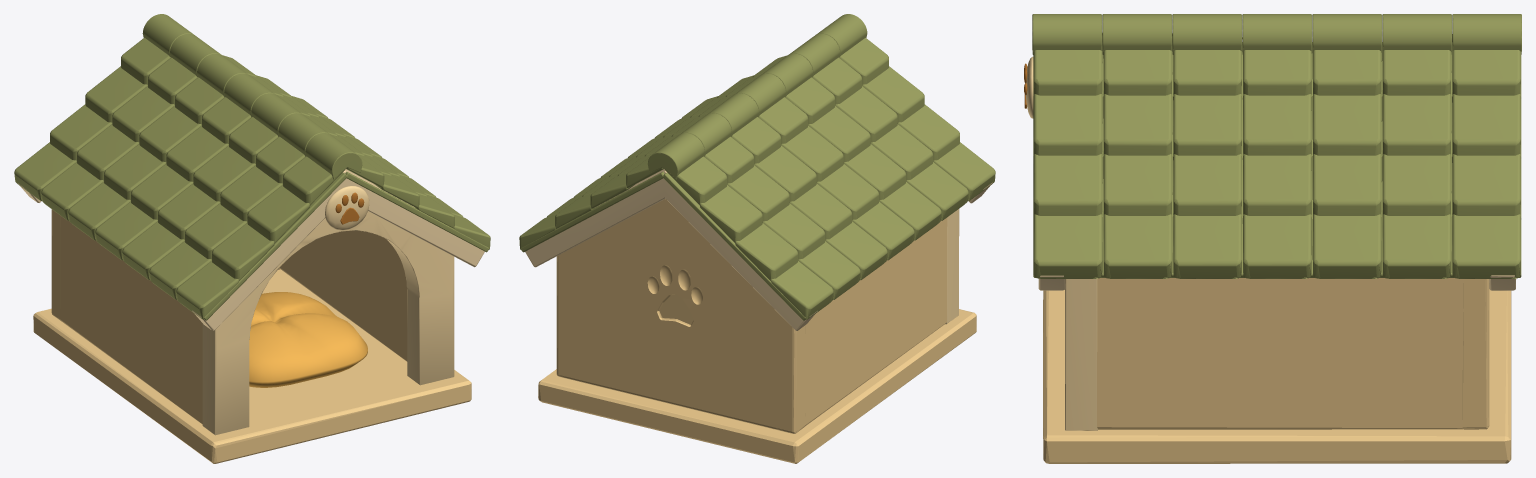
Rendered from olive_tile_cat_shelter.glb.
The picture shows the model from 3 angles, left to right: view 1: azimuth 30°, elevation 25°; view 2: azimuth 150°, elevation 25°; view 3: azimuth 270°, elevation 25°; orthographic projection. The views are drawn at different scales.
Visible parts, largest first — view 1: cream_foundation, solid_side_wall, seamless_arched_facade, solid_side_wall.001, single_four_tuft_cushion, continuous_gable_trim, roof_tile_-1_1_0, roof_tile_-1_2_0, roof_tile_-1_3_0, roof_tile_-1_3_4, roof_tile_-1_3_3, roof_tile_-1_3_5 (+36 smaller); view 2: rear_gable_wall, solid_side_wall, cream_foundation, continuous_gable_trim.001, roof_tile_-1_1_6, roof_tile_-1_2_6, roof_tile_-1_3_6, roof_tile_-1_3_3, roof_tile_-1_3_4, roof_tile_-1_3_2, roof_tile_-1_3_5, roof_tile_-1_3_0 (+33 smaller); view 3: solid_side_wall.001, cream_foundation, seamless_arched_facade, roof_tile_1_3_5, roof_tile_1_3_1, roof_tile_1_3_4, roof_tile_1_3_2, roof_tile_1_3_3, roof_tile_1_3_0, roof_tile_1_3_6, roof_tile_1_2_4, roof_tile_1_1_4 (+28 smaller).
Part boxes in pixels (x1=…): cream_foundation: x1=33, y1=269, x2=471, y2=463; solid_side_wall: x1=51, y1=209, x2=202, y2=424; seamless_arched_facade: x1=202, y1=211, x2=454, y2=435; solid_side_wall.001: x1=279, y1=230, x2=407, y2=361; single_four_tuft_cushion: x1=249, y1=292, x2=367, y2=387; continuous_gable_trim: x1=192, y1=169, x2=484, y2=330; roof_tile_-1_1_0: x1=247, y1=185, x2=310, y2=243; roof_tile_-1_2_0: x1=212, y1=223, x2=274, y2=280; roof_tile_-1_3_0: x1=176, y1=261, x2=238, y2=319; roof_tile_-1_3_4: x1=68, y1=182, x2=130, y2=240; roof_tile_-1_3_3: x1=95, y1=201, x2=157, y2=260; roof_tile_-1_3_5: x1=41, y1=162, x2=103, y2=220; rear_gable_wall: x1=556, y1=199, x2=805, y2=433; solid_side_wall: x1=776, y1=217, x2=947, y2=433; cream_foundation: x1=538, y1=309, x2=976, y2=463; continuous_gable_trim.001: x1=525, y1=169, x2=817, y2=330; roof_tile_-1_1_6: x1=700, y1=185, x2=762, y2=242; roof_tile_-1_2_6: x1=735, y1=223, x2=797, y2=280; roof_tile_-1_3_6: x1=771, y1=261, x2=833, y2=319; roof_tile_-1_3_3: x1=852, y1=201, x2=914, y2=260; roof_tile_-1_3_4: x1=825, y1=221, x2=887, y2=280; roof_tile_-1_3_2: x1=879, y1=182, x2=941, y2=240; roof_tile_-1_3_5: x1=798, y1=241, x2=860, y2=299; roof_tile_-1_3_0: x1=933, y1=142, x2=995, y2=200; solid_side_wall.001: x1=1097, y1=278, x2=1489, y2=429; cream_foundation: x1=1043, y1=289, x2=1511, y2=463; seamless_arched_facade: x1=1065, y1=278, x2=1097, y2=430; roof_tile_1_3_5: x1=1382, y1=214, x2=1451, y2=278; roof_tile_1_3_1: x1=1103, y1=214, x2=1172, y2=278; roof_tile_1_3_4: x1=1312, y1=214, x2=1381, y2=278; roof_tile_1_3_2: x1=1173, y1=214, x2=1242, y2=278; roof_tile_1_3_3: x1=1243, y1=214, x2=1311, y2=278; roof_tile_1_3_0: x1=1034, y1=214, x2=1102, y2=278; roof_tile_1_3_6: x1=1452, y1=214, x2=1521, y2=278; roof_tile_1_2_4: x1=1312, y1=154, x2=1381, y2=215; roof_tile_1_1_4: x1=1312, y1=94, x2=1381, y2=155.
Size of the model in its own units: 1.18 by 1.1 by 1.35.
